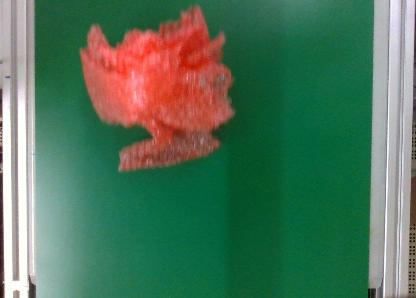Others: (75, 5, 237, 175)
